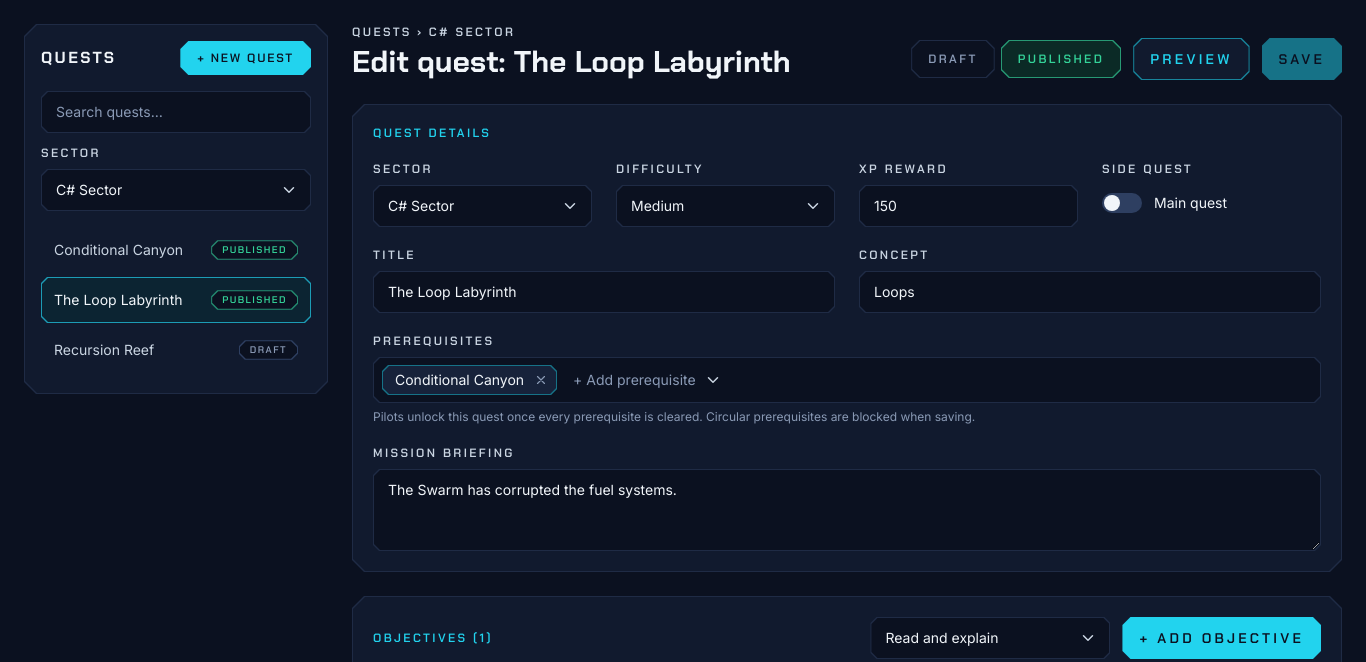
Test: QuestEditorPage › opens a quest with its answer keys and saves changes
Expected: the heading "Edit quest: The Loop Labyrinth" is shown, [352,44,791,80]
Expected: the button "Save" is disabled, [1262,38,1342,80]
Clear the field labelled "Title". click: (604, 292)
box: [374,272,834,312]
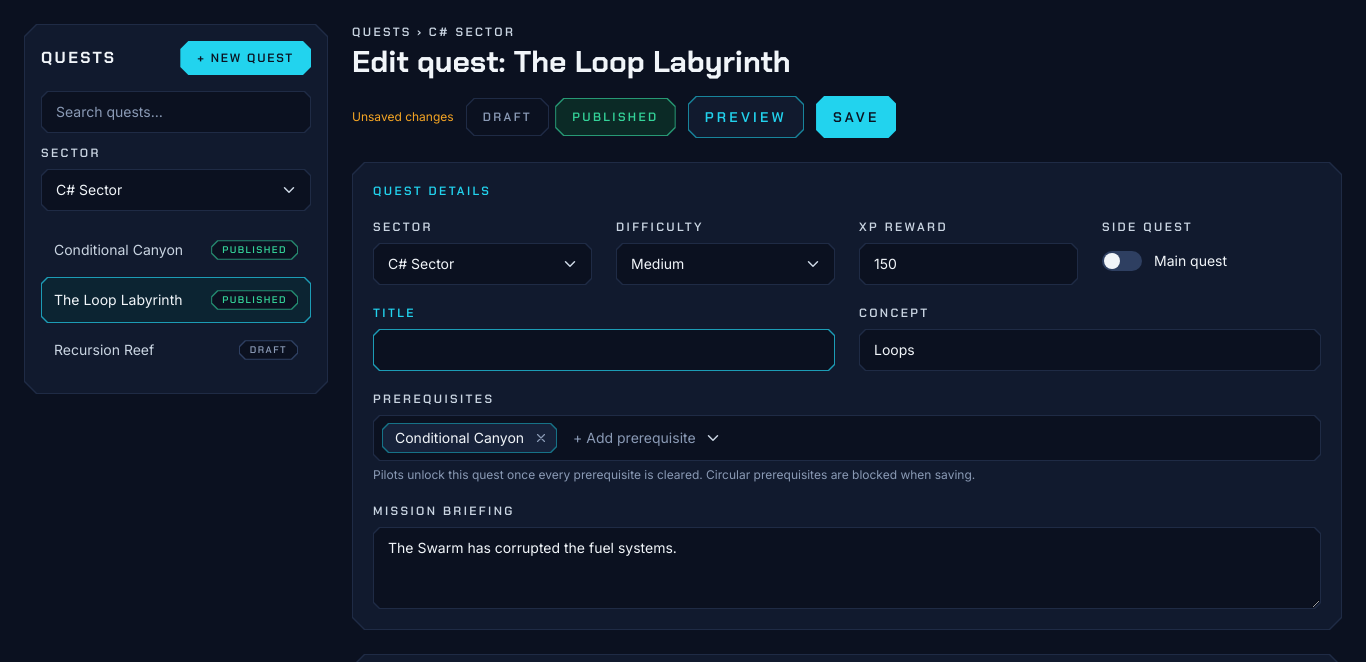
Type "Loop Labyrinth II" into the field labelled "Title". click: (604, 350)
box: [374,330,834,370]
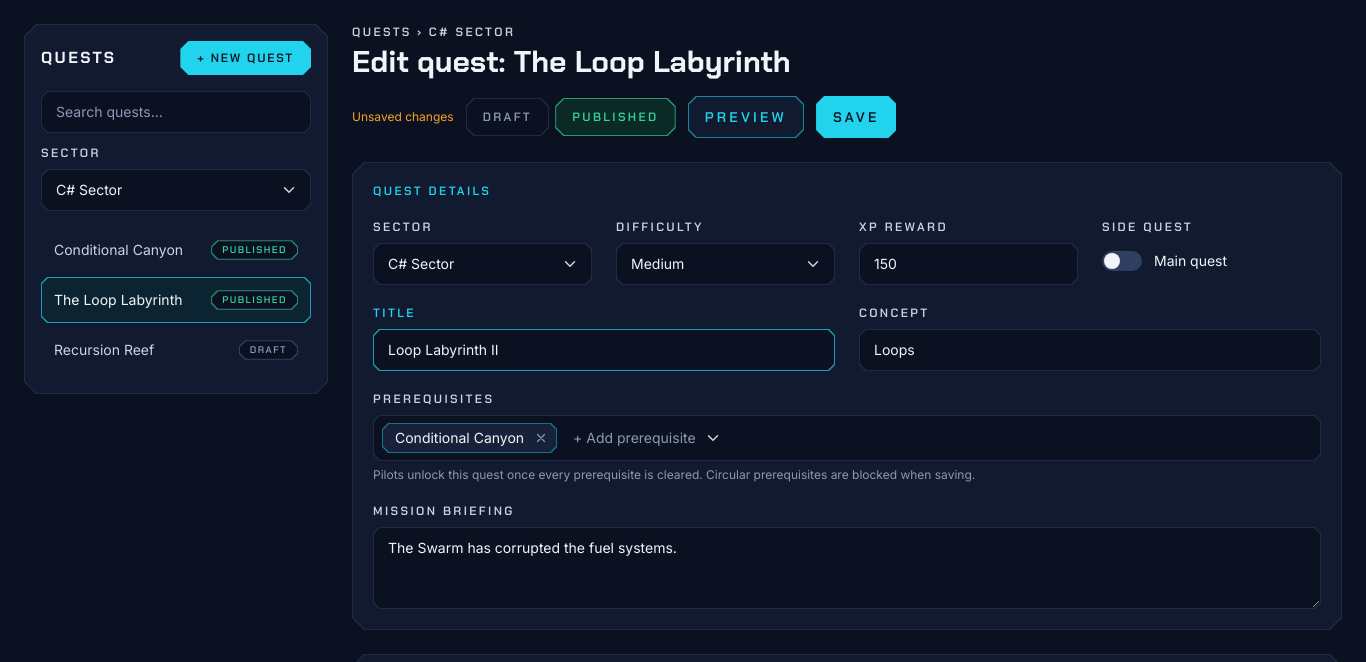
Now the text "Unsaved changes" is shown, box [352,109,454,125]
Click the button "Save". click: (856, 117)
box: [816,96,896,138]
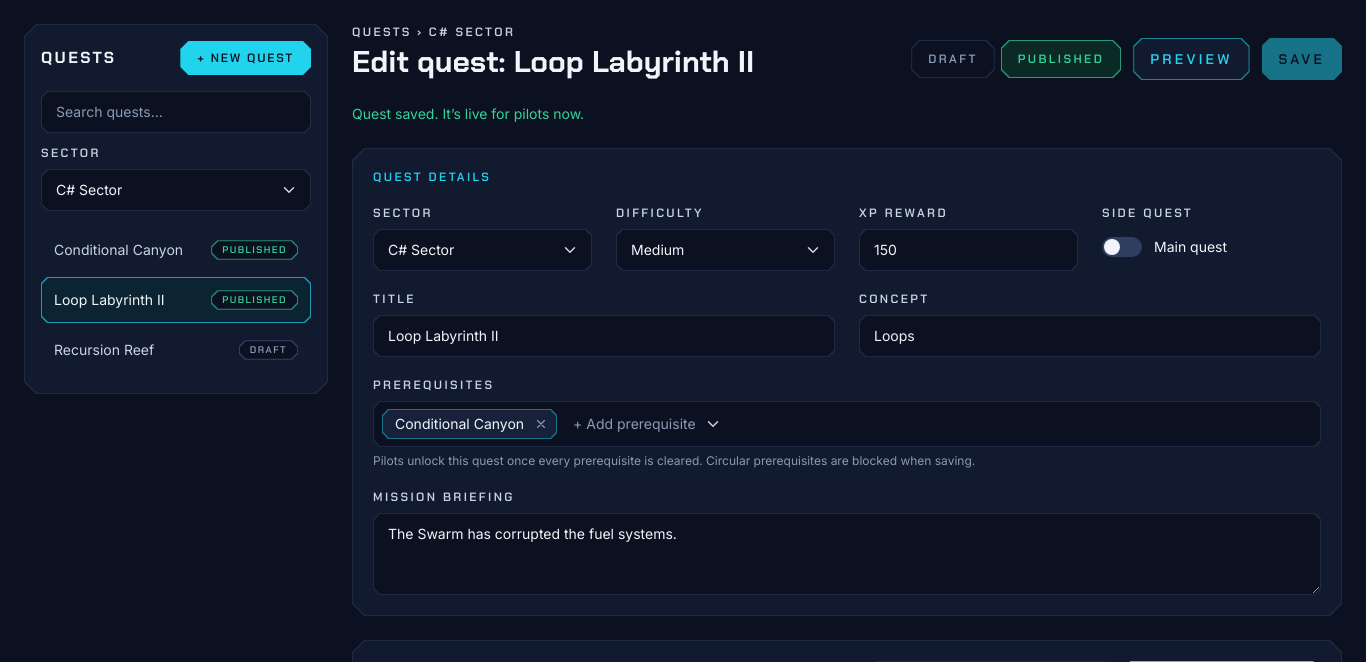
Now the text "Quest saved. It’s live for pilots now." is shown, box [352,105,584,122]
Now the heading "Edit quest: Loop Labyrinth II" is shown, box [352,44,754,80]
Now the link "Loop Labyrinth II Published" is shown, box [41,277,311,323]
